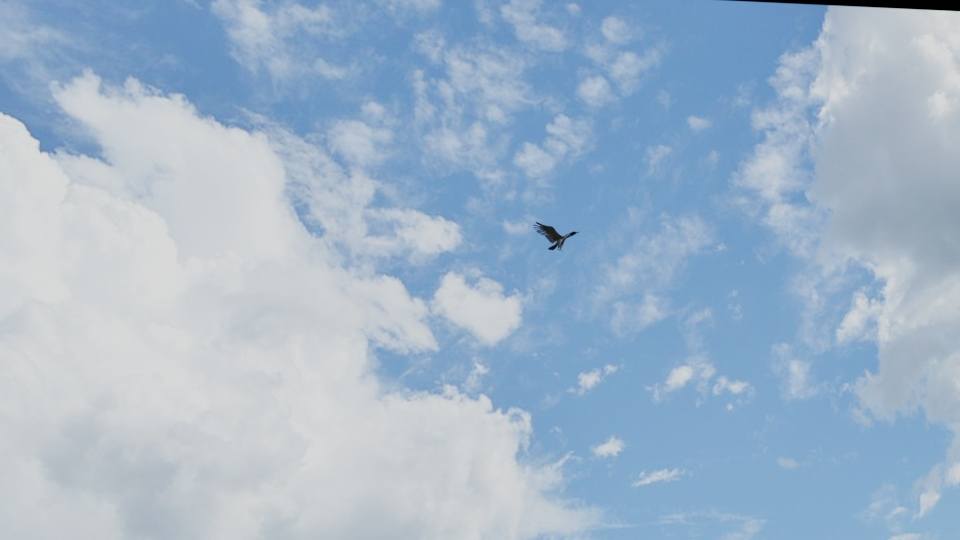bird: (534, 217, 579, 252)
